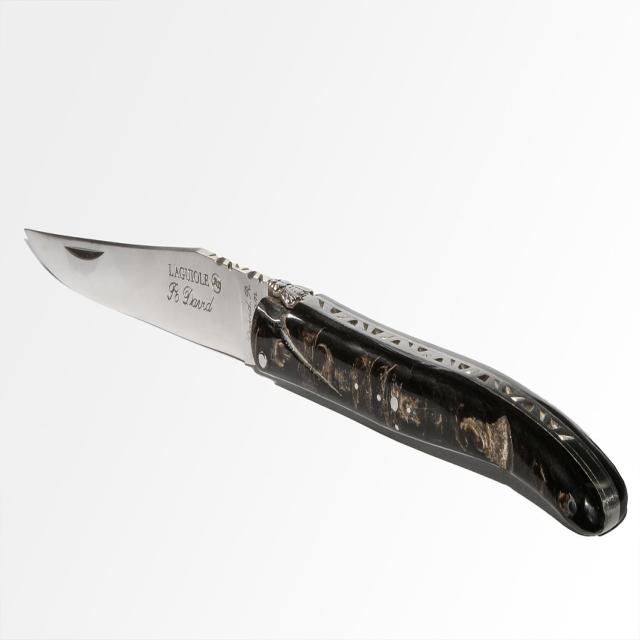Knife: (27, 230, 626, 534)
